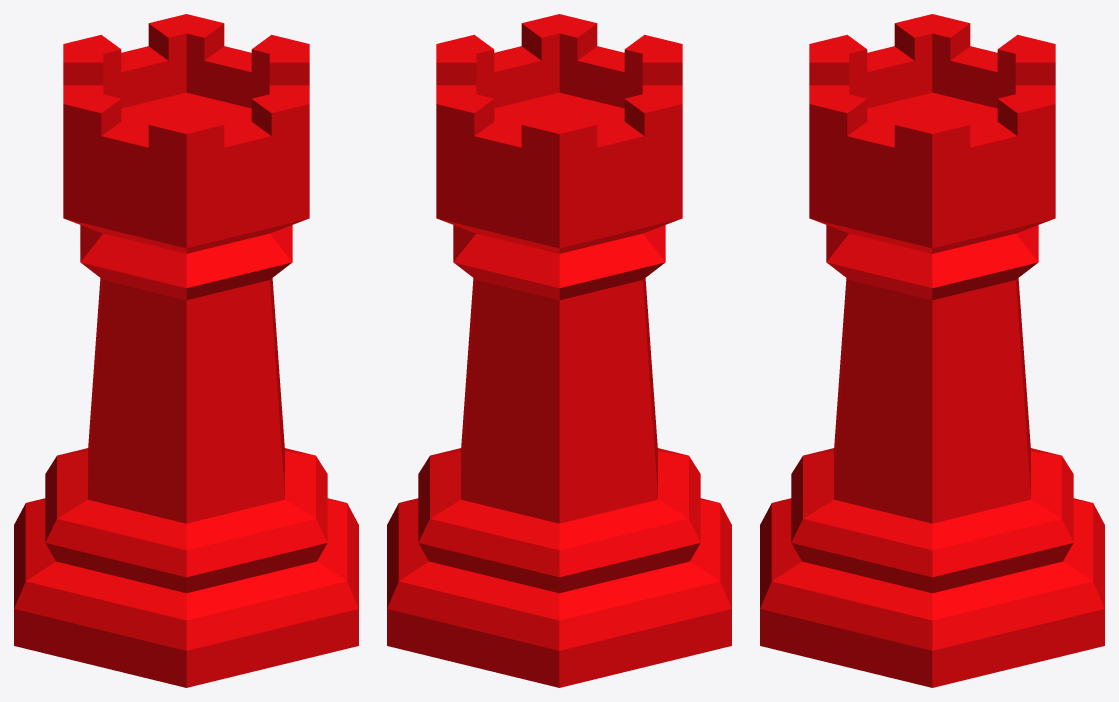
The model's file is red-rook.glb.
3 renders of one model, left to right at view 1: azimuth 30°, elevation 25°; view 2: azimuth 150°, elevation 25°; view 3: azimuth 270°, elevation 25°, orthographic.
Parts seen in each view (by area): view 1: Rook; view 2: Rook; view 3: Rook.
Boxes of the visible parts, x1,y1,x2,y2 form: Rook: [14, 14, 358, 687]; Rook: [387, 14, 731, 687]; Rook: [760, 14, 1104, 687].
Bounding box in the file's own units: 0.8957 × 1.32 × 0.7757.
